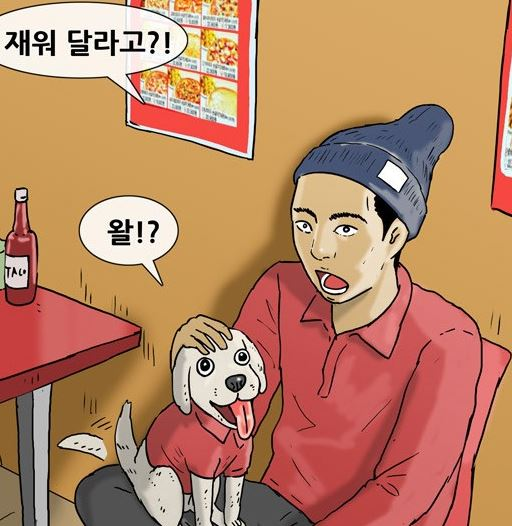hat: (290, 95, 458, 220)
